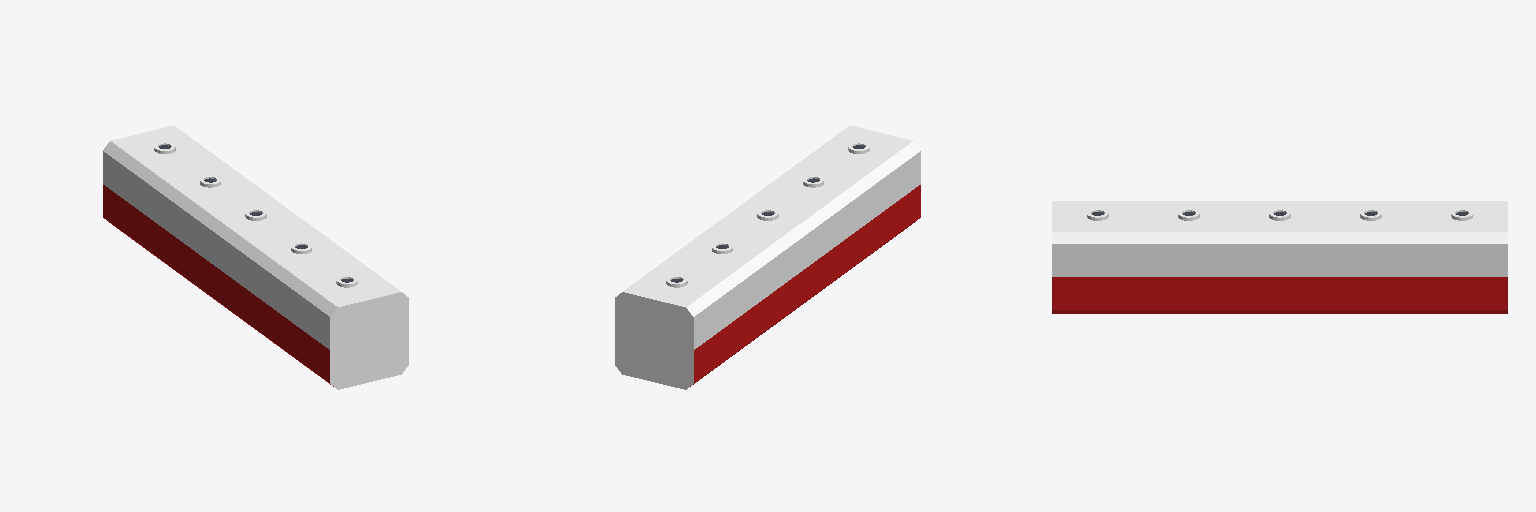
The model's file is BGFreighterCrate.obj.
3 renders of one model, left to right at view 1: azimuth 30°, elevation 25°; view 2: azimuth 150°, elevation 25°; view 3: azimuth 270°, elevation 25°, orthographic.
Bounding box in the file's own units: 1 × 1.04 × 5.